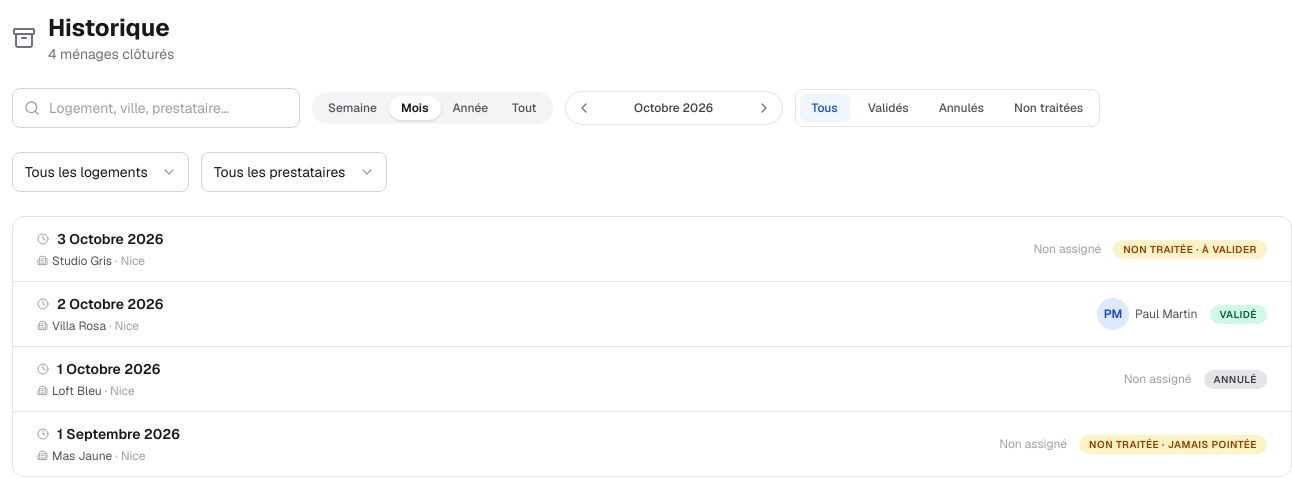
Test case: Historique (archives) — liste › le filtre « Non traitées » ne garde que les oubliées
Expected: the text "4 ménages clôturés" is shown, x1=48 y1=44 x2=174 y2=64
Step 1. Click the button "Non traitées" → (1049, 108), box x1=1002 y1=94 x2=1095 y2=122
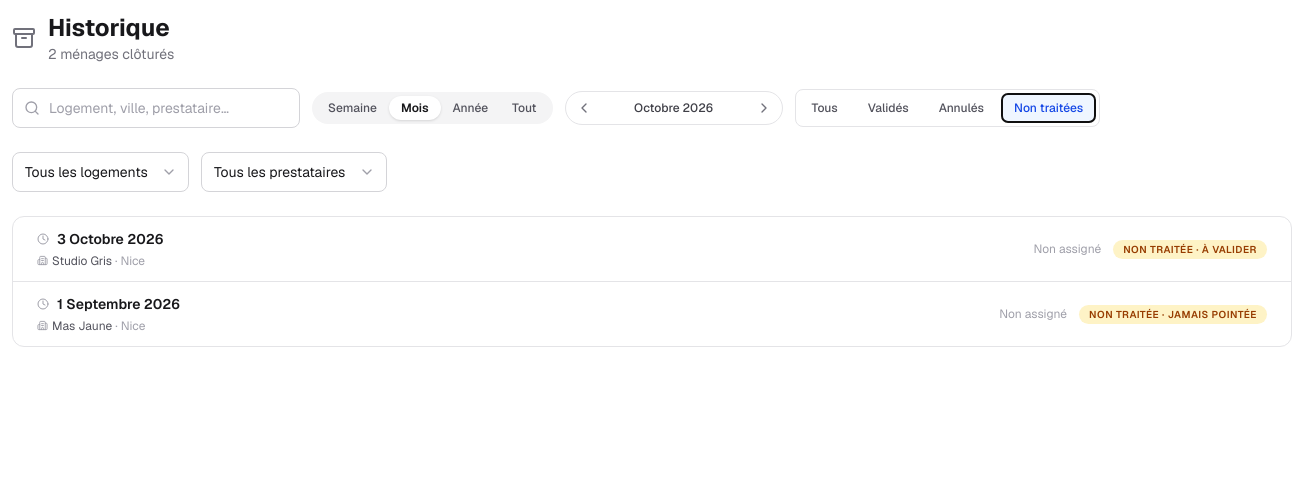
Result: the number of list items is 2 at x1=13 y1=217 x2=1291 y2=282; x1=13 y1=282 x2=1291 y2=346
Result: the text "2 ménages clôturés" is shown at x1=48 y1=44 x2=174 y2=64
